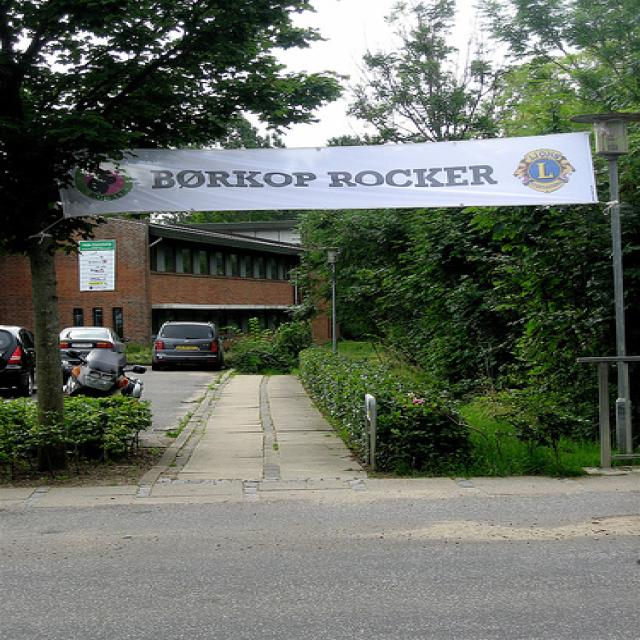car: (150, 321, 227, 372), (50, 326, 129, 370), (1, 325, 33, 399)
motorbike: (61, 345, 149, 403)
